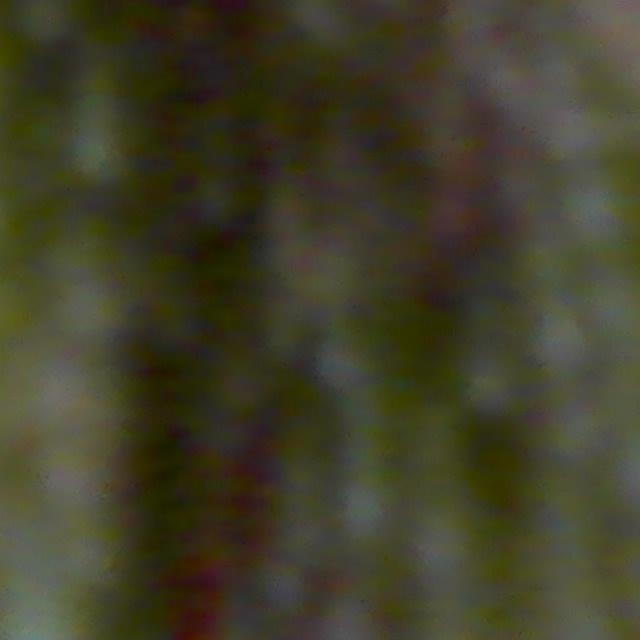SeaGrape: (559, 165, 640, 257), (527, 304, 595, 377), (14, 0, 90, 49)
